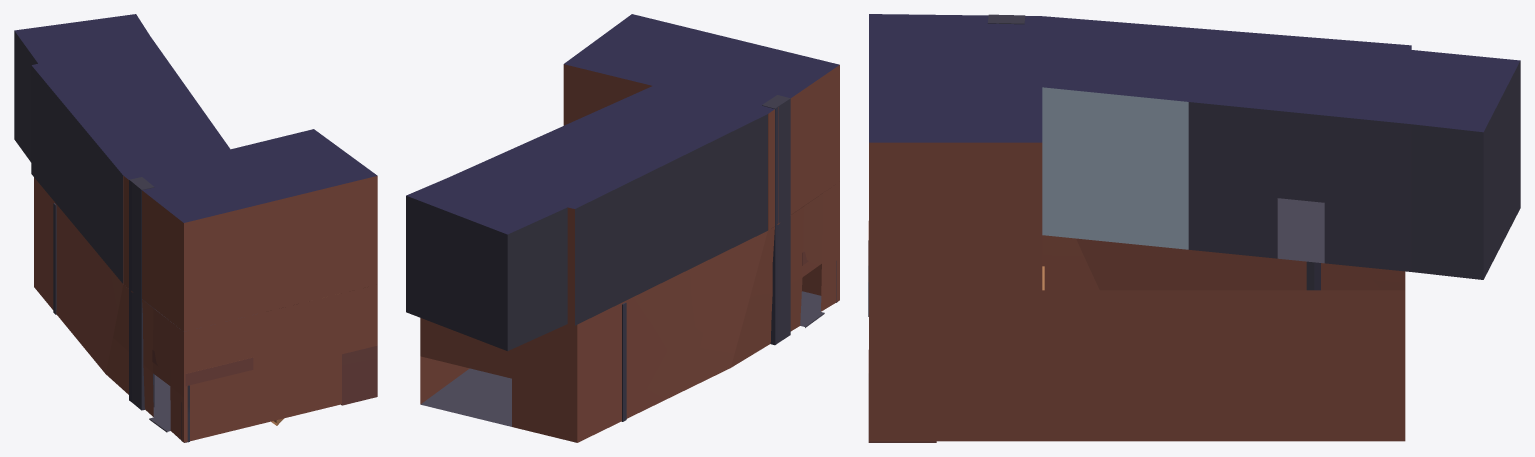
Rendered from INTYeolsOldPotions.fbx.
3 views of the same model, side by side, from view 1: azimuth 30°, elevation 25°; view 2: azimuth 150°, elevation 25°; view 3: azimuth 270°, elevation 25° (orthographic). The views are drawn at different scales.
Parts seen in each view (by area): view 1: CursesINTWalls02, CursesINTWalls, Support.035, StaircaseFrame, Platform.070, Support.036; view 2: CursesINTWalls02, CursesINTWalls, Support.035, Support.036; view 3: CursesINTWalls02, CursesINTWalls.
Part boxes in pixels (x1,y1,x2,y2): CursesINTWalls02: (14, 14, 377, 331); CursesINTWalls: (34, 177, 377, 442); Support.035: (129, 177, 154, 410); StaircaseFrame: (341, 345, 377, 405); Platform.070: (152, 350, 253, 385); Support.036: (53, 203, 56, 314); CursesINTWalls02: (406, 14, 839, 351); CursesINTWalls: (420, 181, 839, 442); Support.035: (762, 95, 790, 345); Support.036: (621, 302, 626, 421); CursesINTWalls02: (869, 14, 1520, 290); CursesINTWalls: (869, 235, 1405, 441).
Size of the model in its own units: 1608 by 1784 by 3428.
